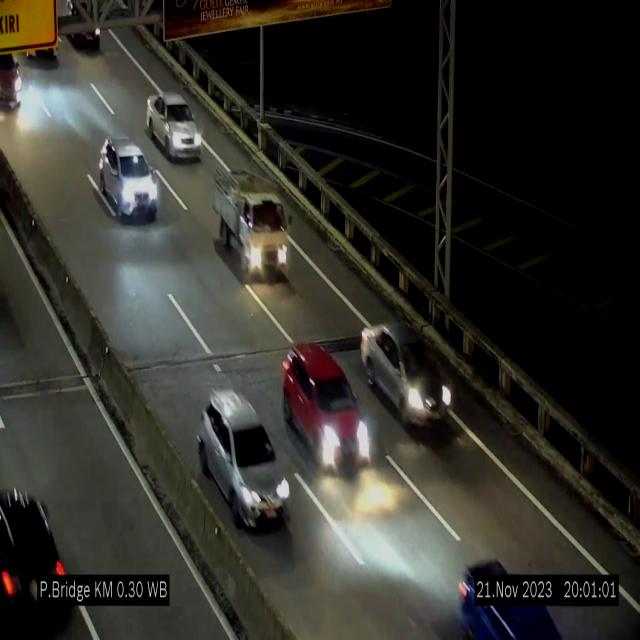Car: (0, 476, 82, 635), (198, 389, 292, 526), (286, 335, 365, 481), (360, 314, 456, 434), (452, 552, 574, 640), (99, 135, 159, 218), (146, 92, 202, 160), (0, 52, 30, 115)
Truck: (210, 159, 292, 292)
